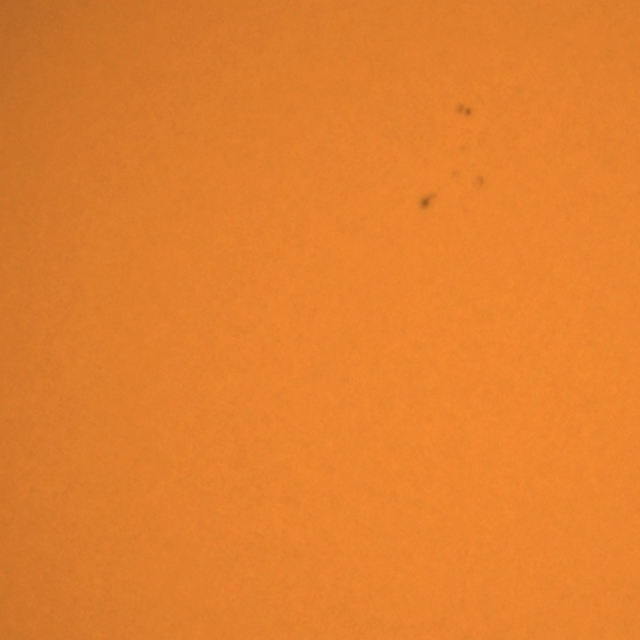sunspot: (417, 190, 438, 213), (454, 102, 474, 119), (473, 173, 487, 190)
